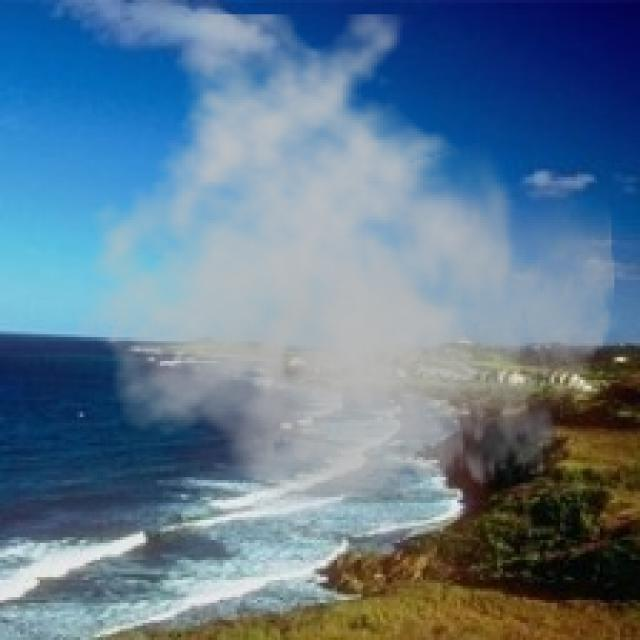Smoke: (72, 14, 618, 557)
